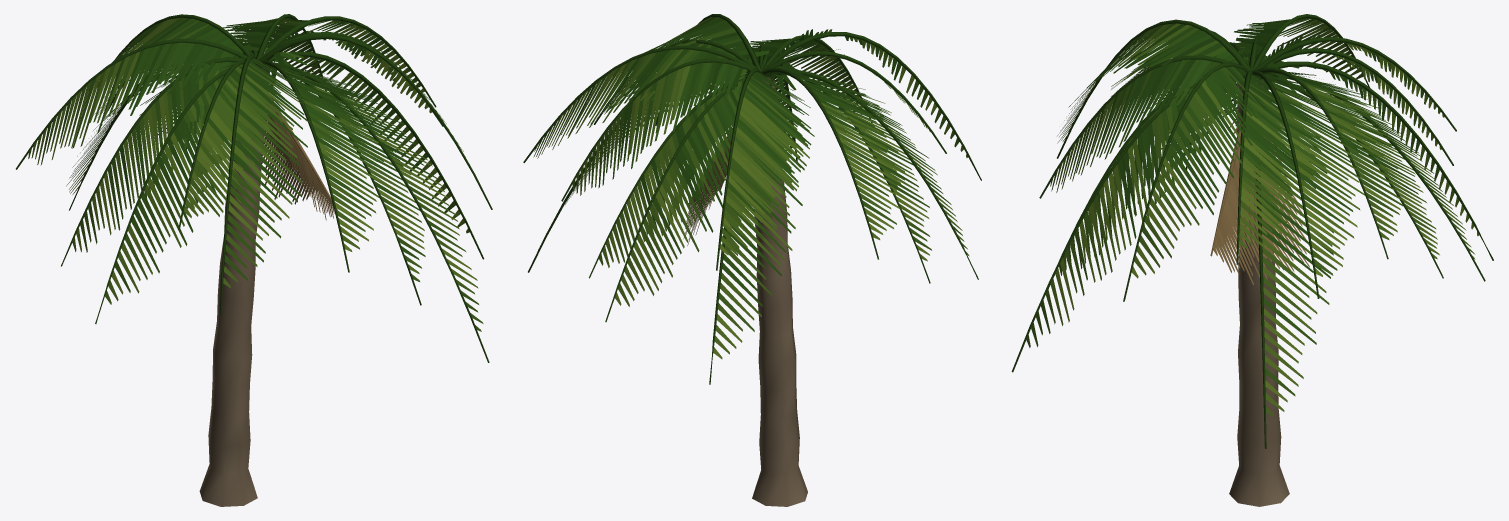
Rendered from PLN_FernTree_Small.fbx.
The picture shows the model from 3 angles, left to right: view 1: azimuth 30°, elevation 25°; view 2: azimuth 150°, elevation 25°; view 3: azimuth 270°, elevation 25°; orthographic projection. The views are drawn at different scales.
Parts seen in each view (by area): view 1: PLN_FernTree_Small; view 2: PLN_FernTree_Small; view 3: PLN_FernTree_Small.
Boxes of the visible parts, x1,y1,x2,y2 form: PLN_FernTree_Small: (16, 14, 492, 506); PLN_FernTree_Small: (523, 14, 981, 506); PLN_FernTree_Small: (1011, 14, 1493, 506).
Bounding box in the file's own units: 5.19 × 5.31 × 5.01.
